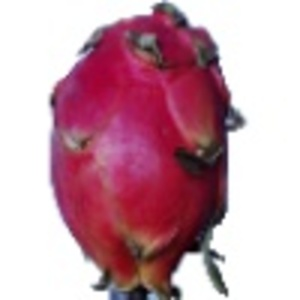pitaia: (48, 1, 248, 300)
